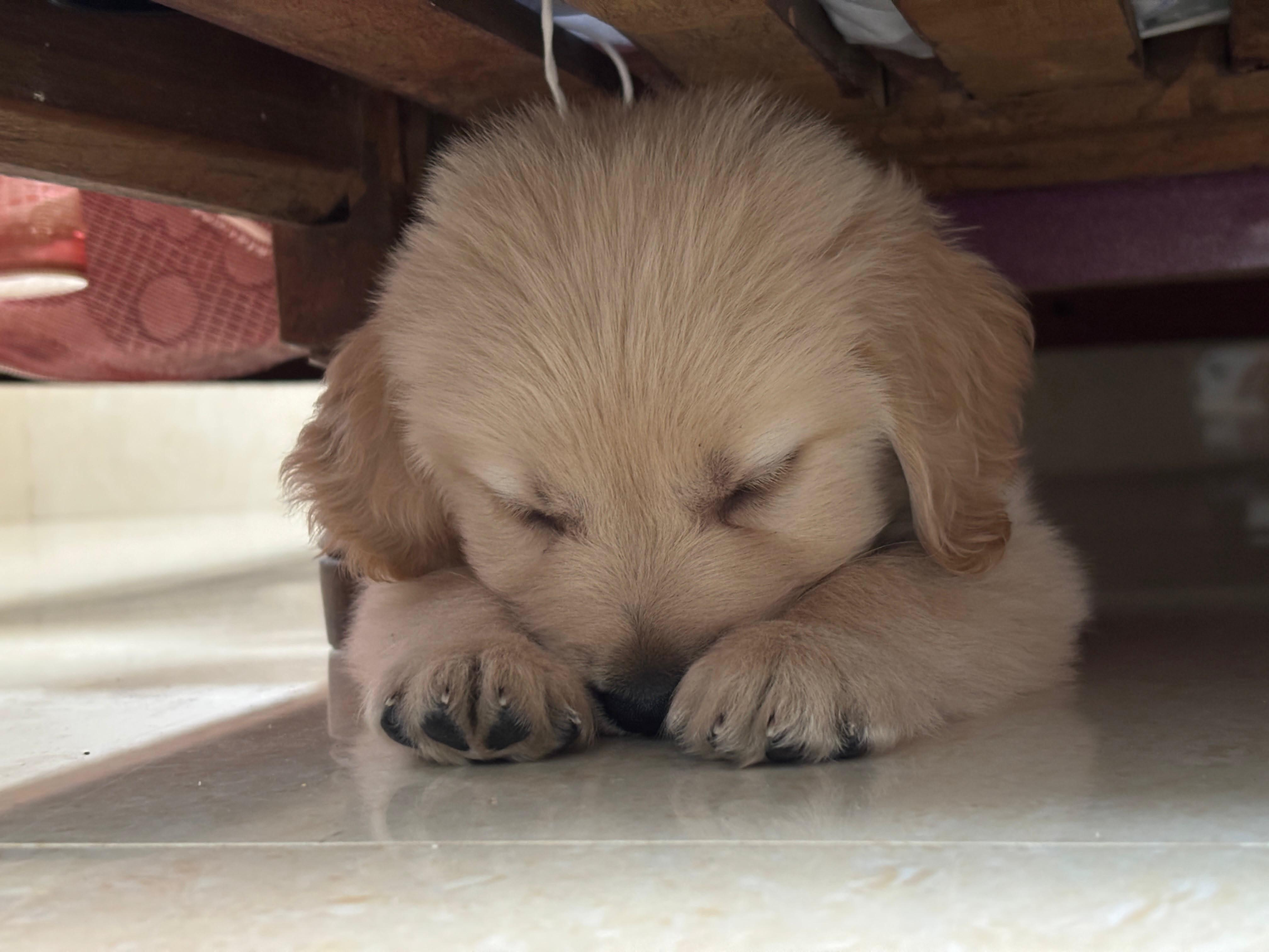puppy-dog: (274, 84, 1098, 766)
